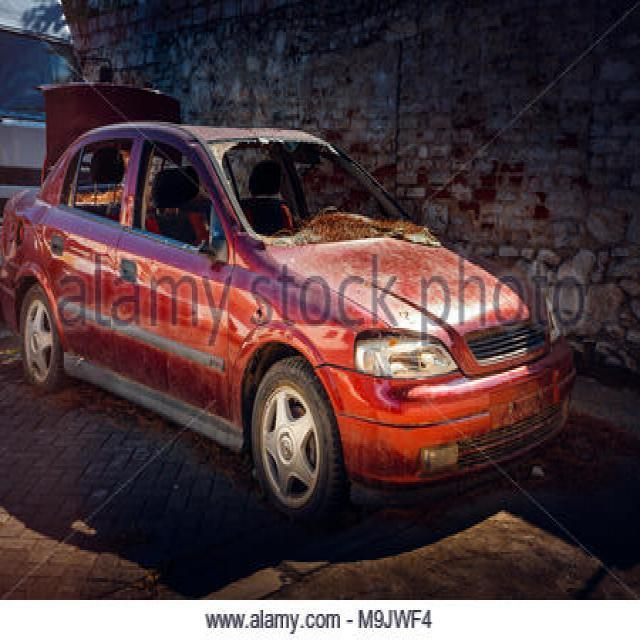Front-Windscreen-Damage: (178, 114, 429, 252)
